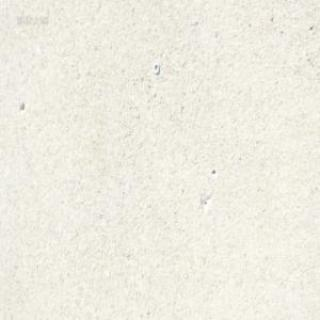Washertrack_idkeyframe: (152, 62, 159, 73)
